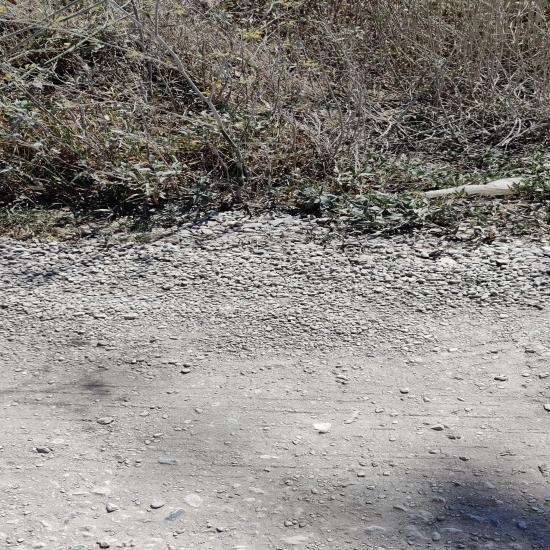Corrugated carton: (401, 106, 550, 128)
